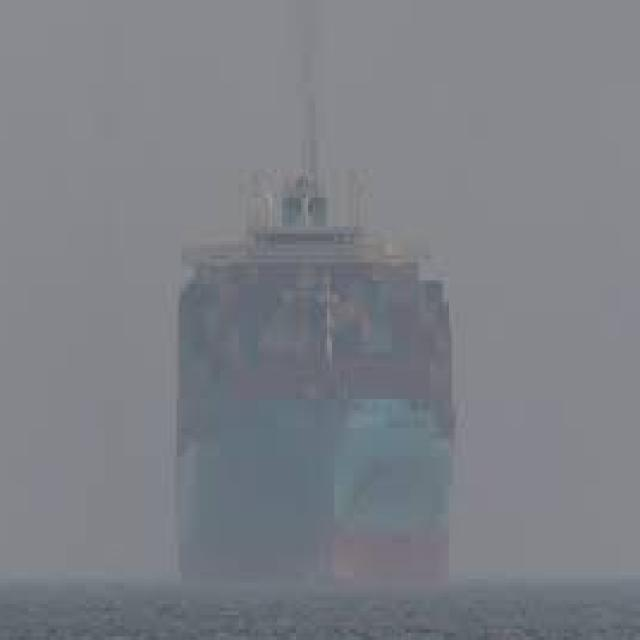cargoship: (164, 129, 461, 574)
